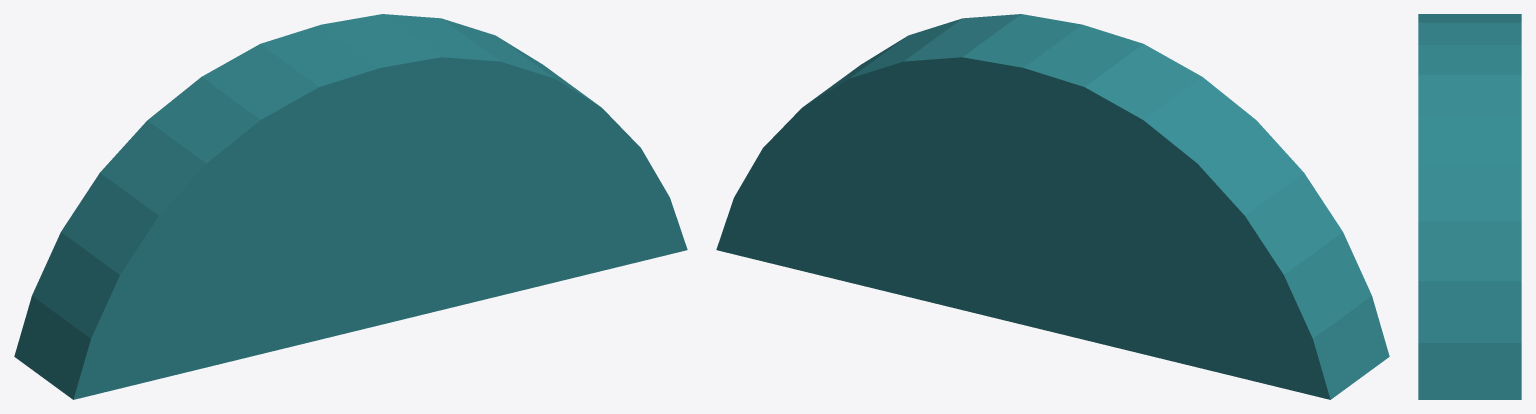
The model's file is hill-small.fbx.
3 views of the same model, side by side, from view 1: azimuth 30°, elevation 25°; view 2: azimuth 150°, elevation 25°; view 3: azimuth 270°, elevation 25° (orthographic). The views are drawn at different scales.
Visible parts, largest first — view 1: Circle; view 2: Circle; view 3: Circle.
Boxes of the visible parts, box(x1,y1,x2,y2) form: Circle: box(14, 14, 687, 399); Circle: box(716, 14, 1389, 399); Circle: box(1418, 14, 1521, 399).
Bounding box in the file's own units: 60000 × 24000 × 10000.
